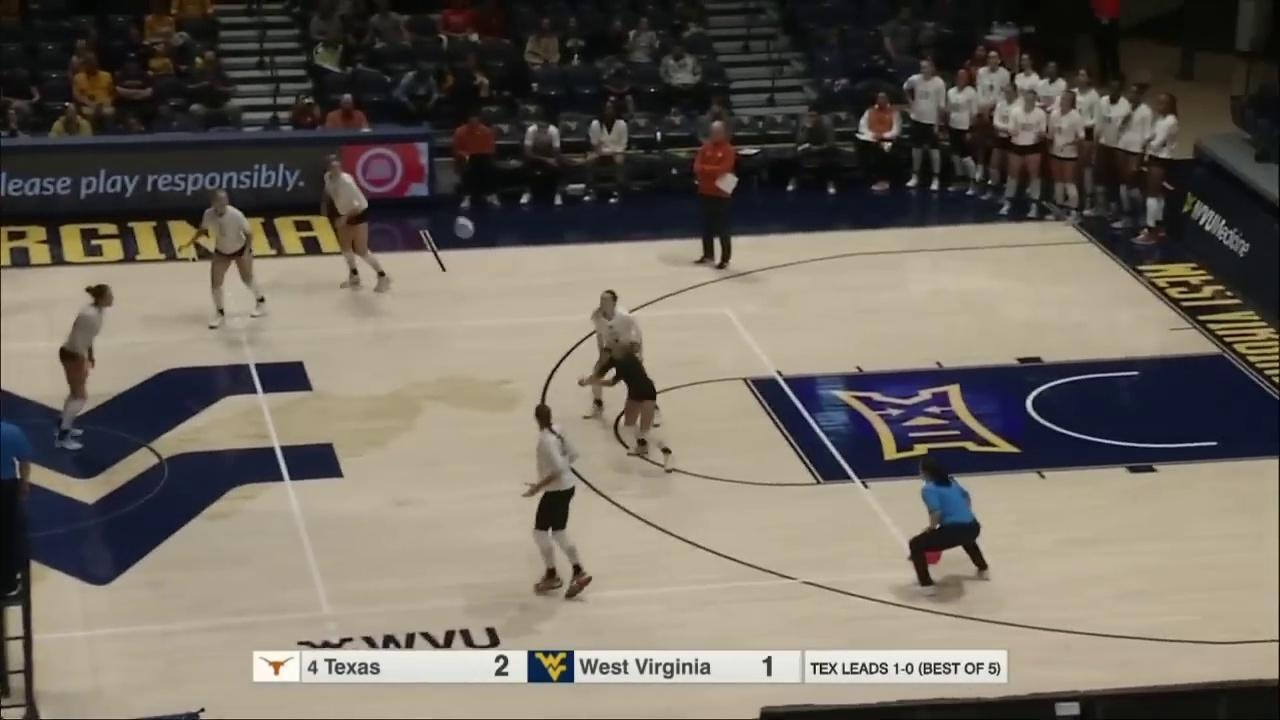player: (527, 404, 591, 599), (591, 336, 681, 472), (185, 190, 268, 328), (583, 290, 663, 425), (52, 281, 116, 447), (323, 155, 393, 296)
refree: (906, 458, 992, 597), (0, 413, 35, 601)
